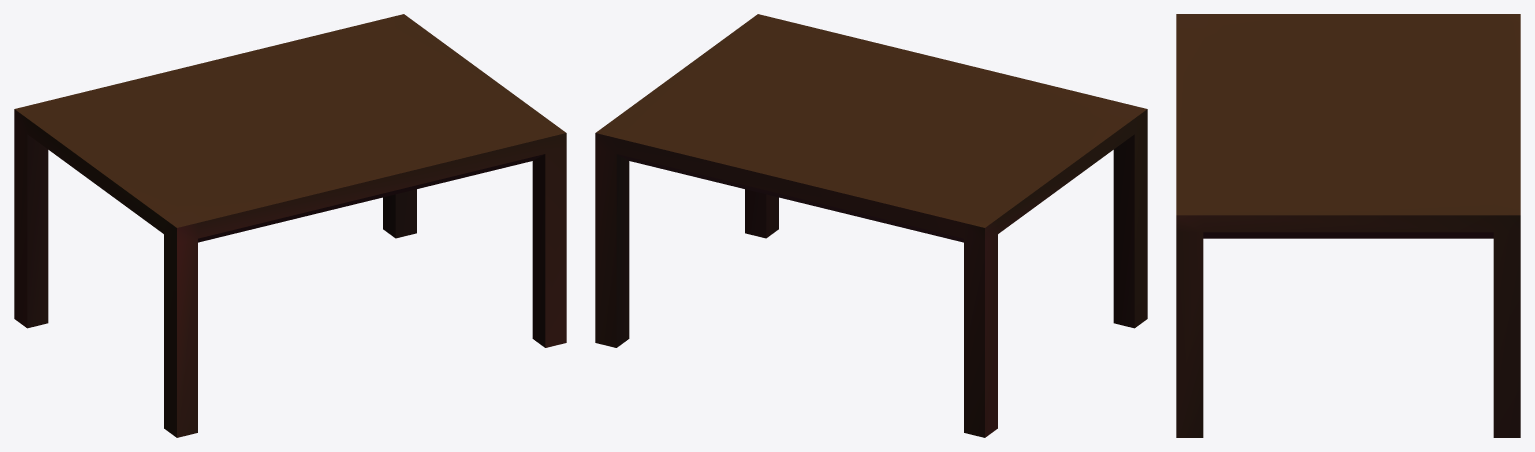
Rendered from dinner_table.FBX.
3 renders of one model, left to right at view 1: azimuth 30°, elevation 25°; view 2: azimuth 150°, elevation 25°; view 3: azimuth 270°, elevation 25°, orthographic. The views are drawn at different scales.
Parts seen in each view (by area): view 1: dinner table; view 2: dinner table; view 3: dinner table.
Part boxes in pixels (left/top/right/bottom): dinner table: left=14, top=14, right=566, bottom=437; dinner table: left=595, top=14, right=1147, bottom=437; dinner table: left=1176, top=14, right=1520, bottom=437.
Size of the model in its own units: 1.69 by 0.8707 by 1.22.
